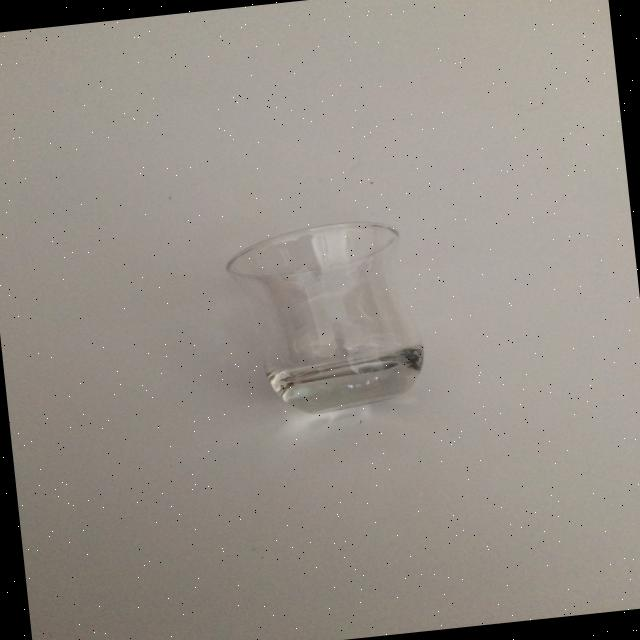glass: (220, 214, 430, 421)
